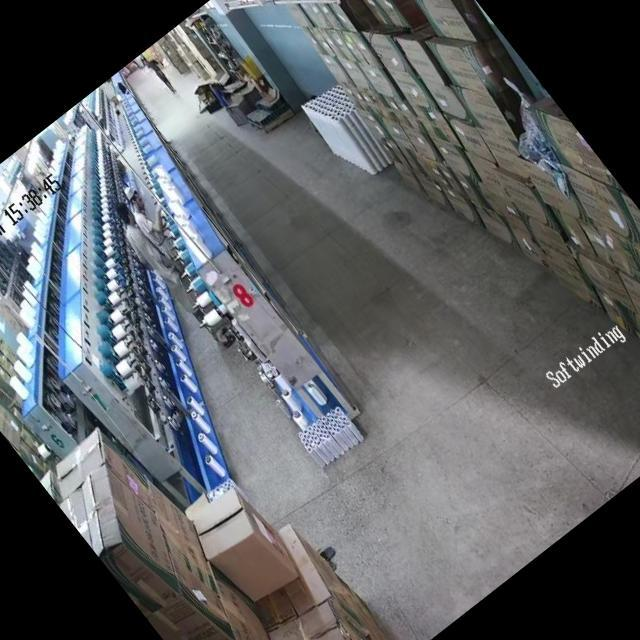person: (105, 200, 215, 332), (119, 180, 175, 247)
